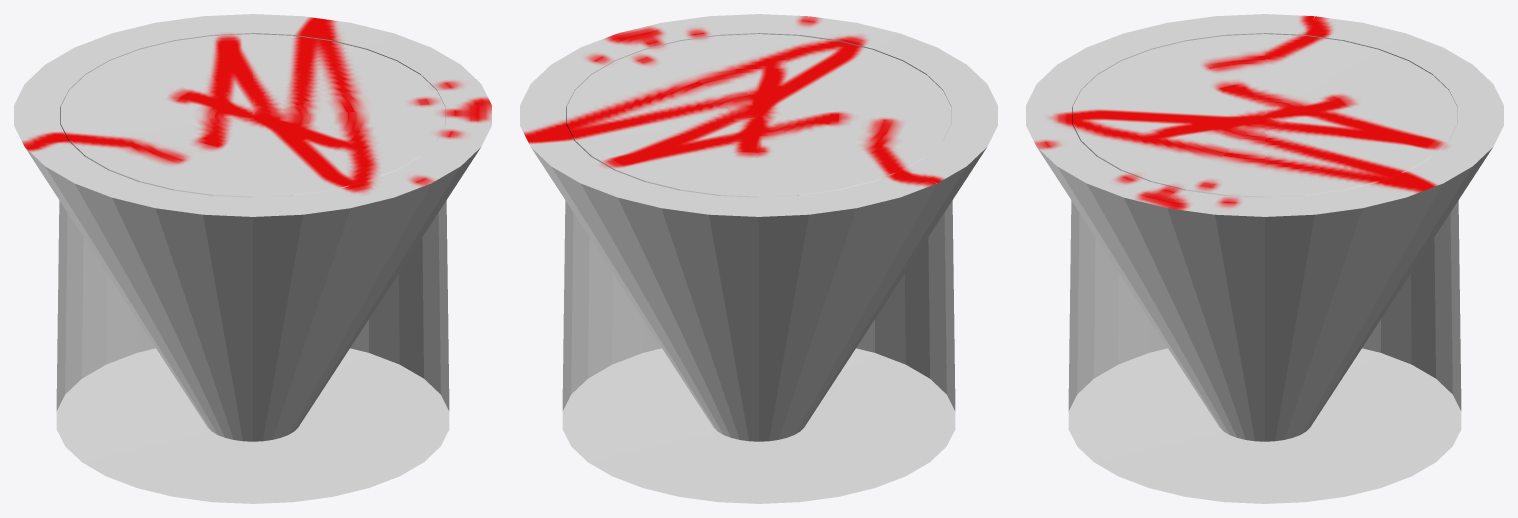
3 views of the same model, side by side, from view 1: azimuth 30°, elevation 25°; view 2: azimuth 150°, elevation 25°; view 3: azimuth 270°, elevation 25° (orthographic).
Visible parts, largest first — view 1: algeomath; view 2: algeomath; view 3: algeomath.
Boxes of the visible parts, x1,y1,x2,y2 form: algeomath: (14, 14, 491, 503); algeomath: (520, 14, 997, 503); algeomath: (1026, 14, 1503, 503).
Bounding box in the file's own units: 9.98 × 7.05 × 9.92.
1 material, 1 textured.
